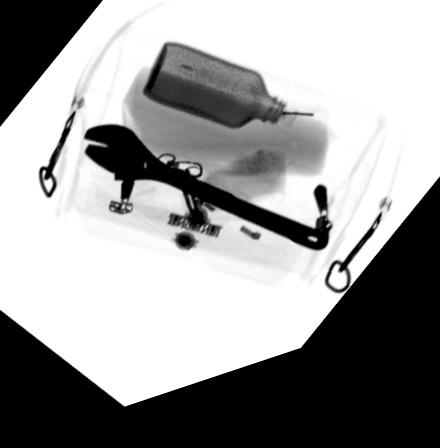Wrench: (82, 130, 331, 272)
